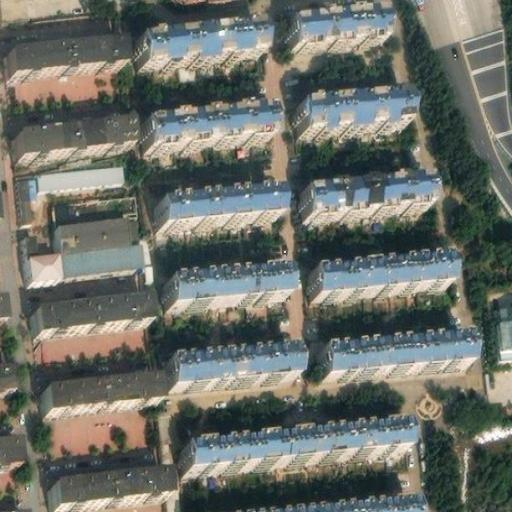building: (176, 423, 405, 475), (313, 330, 467, 379), (139, 22, 276, 68), (149, 106, 283, 153), (308, 261, 452, 304), (298, 174, 427, 220), (288, 95, 417, 141), (170, 277, 298, 319), (168, 343, 296, 385), (161, 189, 288, 231), (52, 214, 136, 276), (4, 38, 122, 76), (10, 122, 126, 160), (46, 475, 166, 510), (37, 376, 157, 411), (282, 4, 380, 46), (29, 298, 148, 332), (267, 496, 420, 512), (35, 161, 125, 184), (20, 249, 57, 280), (17, 172, 38, 217), (0, 436, 21, 471), (495, 313, 512, 349), (0, 359, 15, 392), (18, 231, 35, 253), (497, 349, 512, 364)
